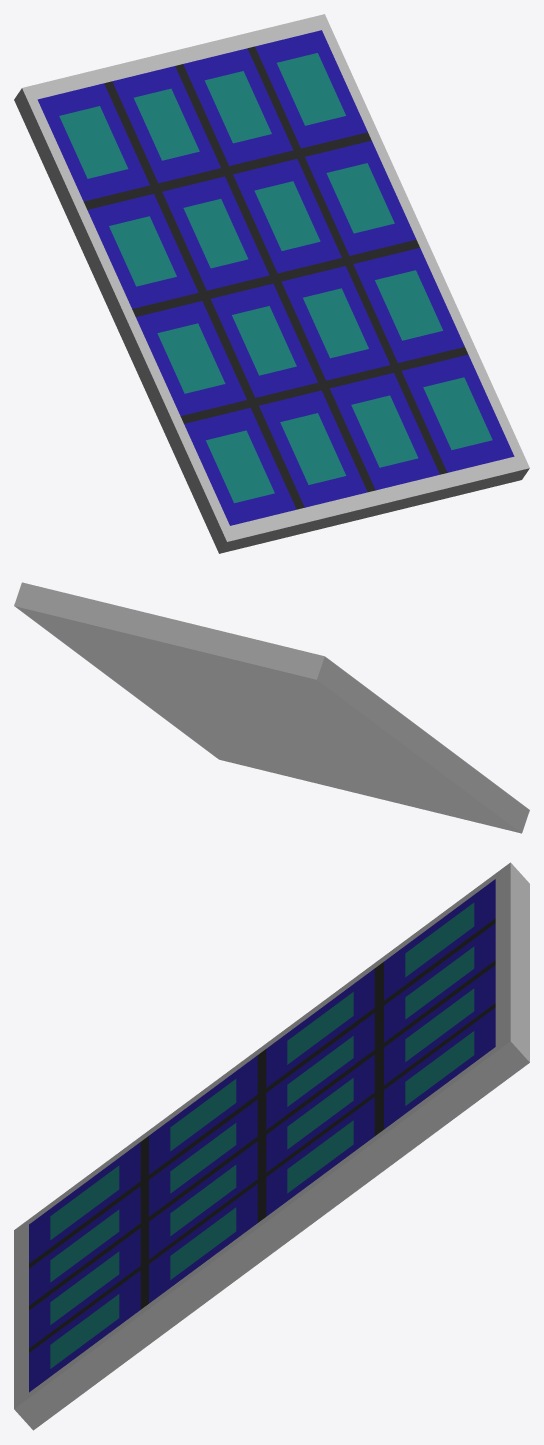
File: solar panel.fbx
3 views of the same model, one above another, from view 1: azimuth 30°, elevation 25°; view 2: azimuth 150°, elevation 25°; view 3: azimuth 270°, elevation 25° (orthographic). The views are drawn at different scales.
Visible parts, largest first — view 1: solar panel; view 2: solar panel; view 3: solar panel.
Part boxes in pixels (x1,y1,x2,y2): solar panel: (14,14,529,553); solar panel: (14,582,529,833); solar panel: (14,862,529,1430).
Bounding box in the file's own units: 200 × 203 × 244.
